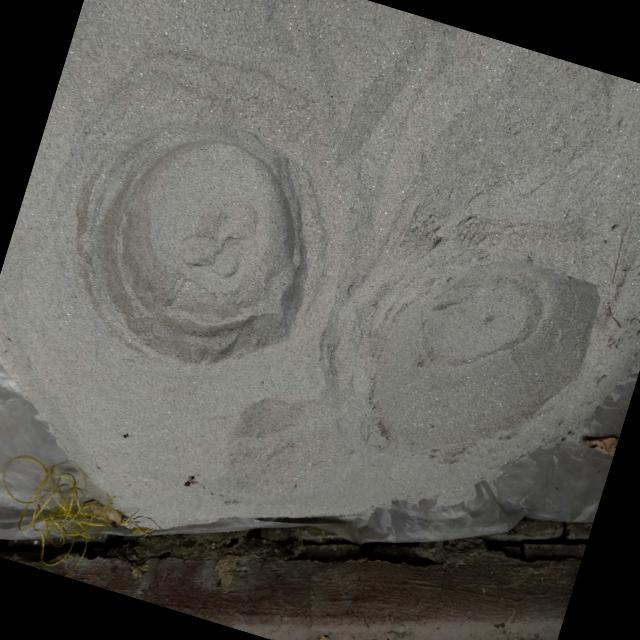C20: (91, 137, 305, 358), (368, 258, 598, 459)
